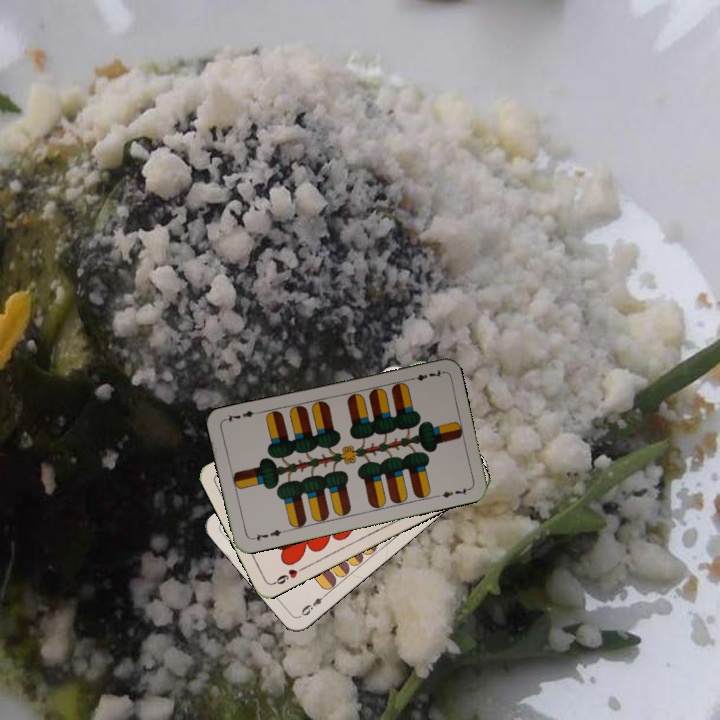E7: (248, 525, 288, 544), (405, 366, 445, 383)
E9: (297, 589, 330, 618)
H9: (269, 563, 307, 587)
